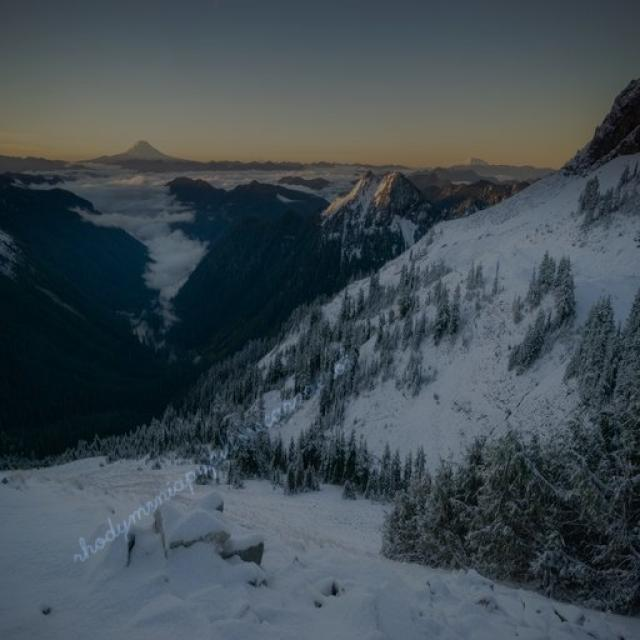watermark: (70, 339, 354, 569)
